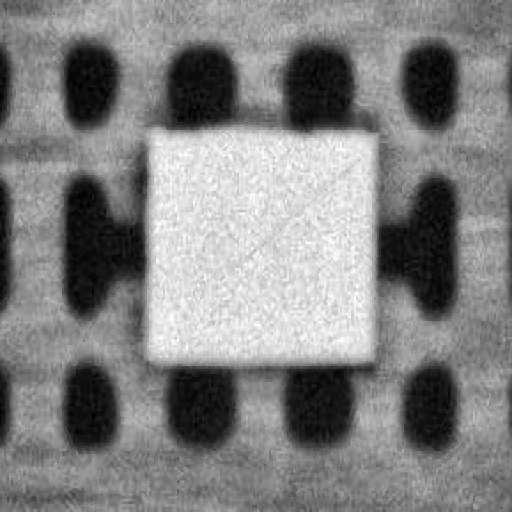DIE_CRACK: (342, 105, 512, 179)
